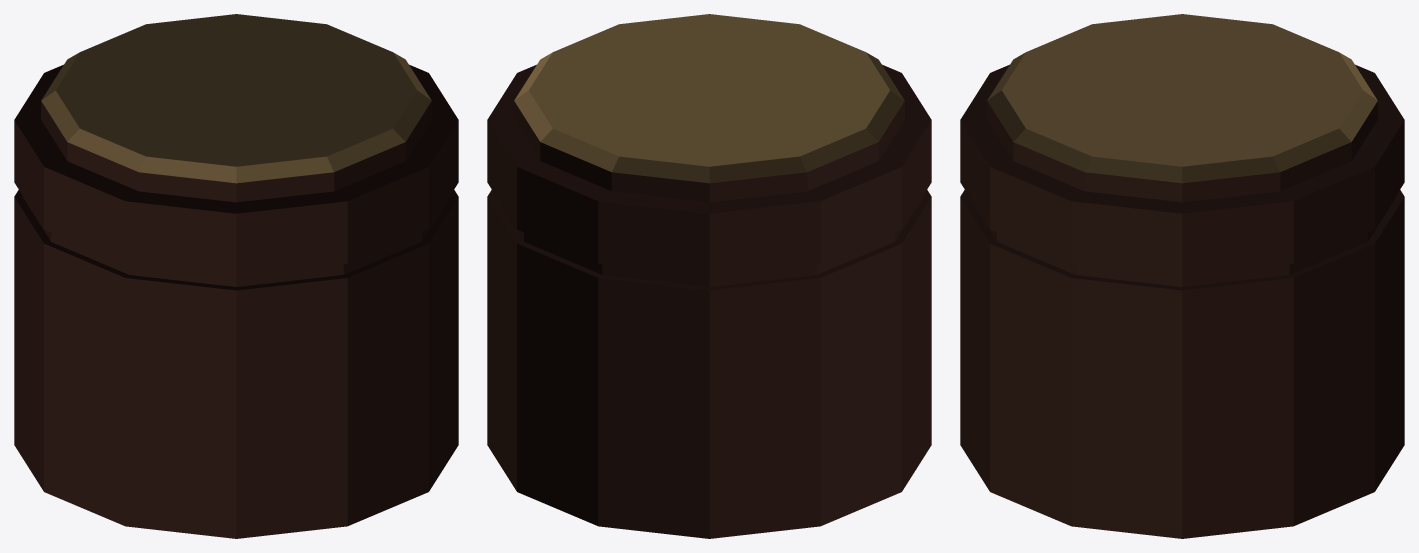
File: Stool 1.fbx
3 renders of one model, left to right at view 1: azimuth 30°, elevation 25°; view 2: azimuth 150°, elevation 25°; view 3: azimuth 270°, elevation 25°, orthographic.
Visible parts, largest first — view 1: Node 0; view 2: Node 0; view 3: Node 0.
Part boxes in pixels (x1,y1,x2,y2): Node 0: (14,14,458,538); Node 0: (487,14,931,538); Node 0: (960,14,1404,538).
Bounding box in the file's own units: 0.5028 × 0.4429 × 0.5028.
